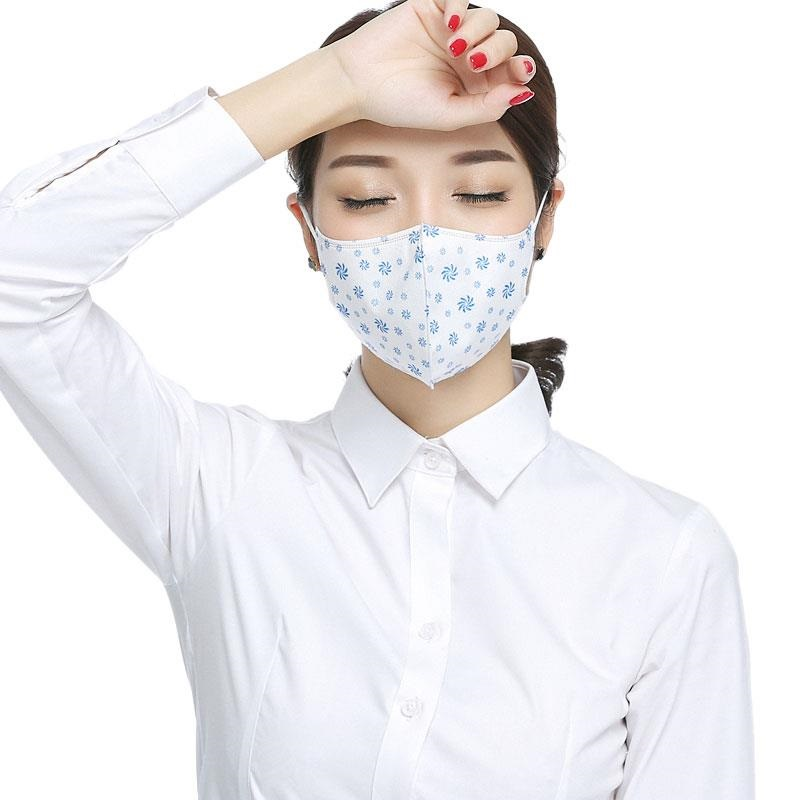face_mask: (318, 81, 533, 389)
